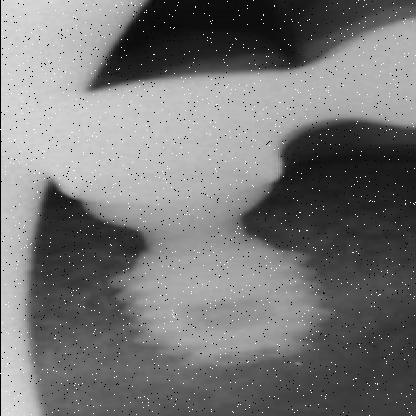Bicon: (116, 210, 328, 374)
